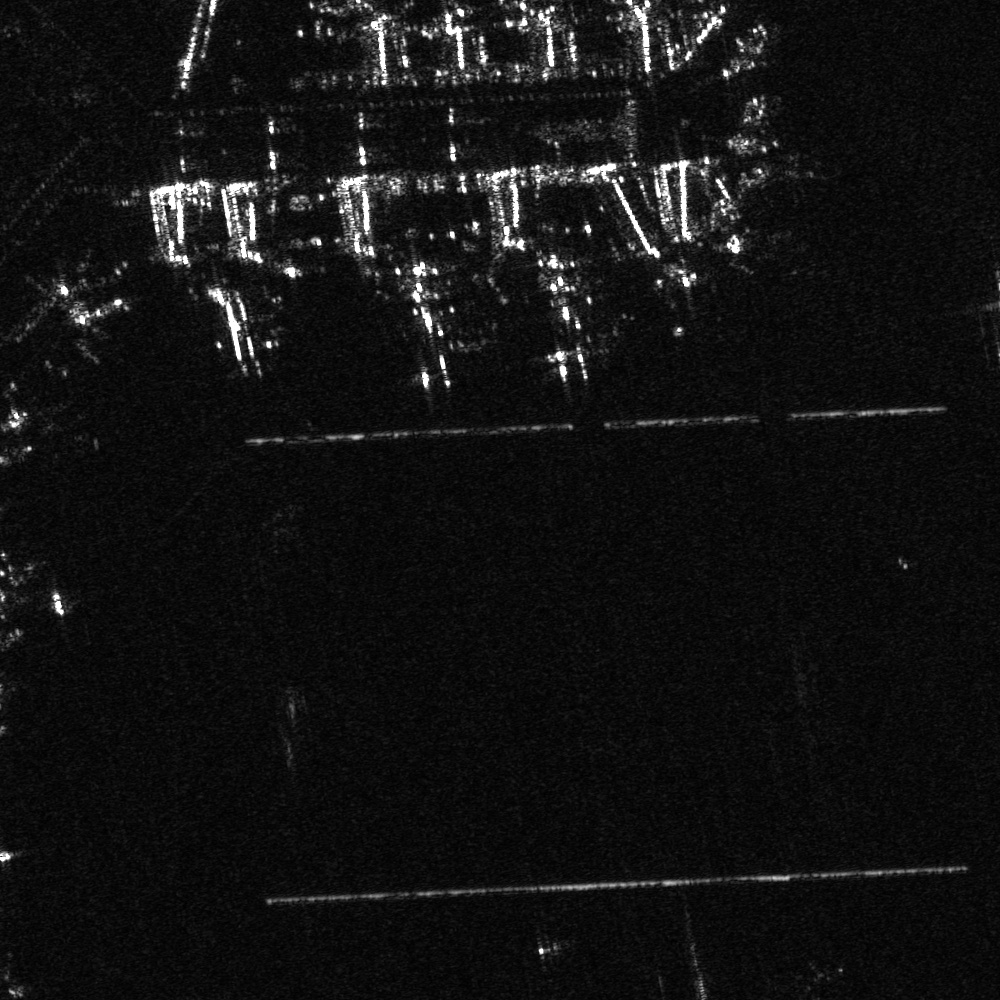Boeing737: (199, 270, 277, 376), (646, 253, 714, 342)
Boeing787: (395, 277, 480, 398)
other: (527, 271, 615, 387)
